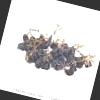Grape Rotten: (12, 14, 100, 82)
